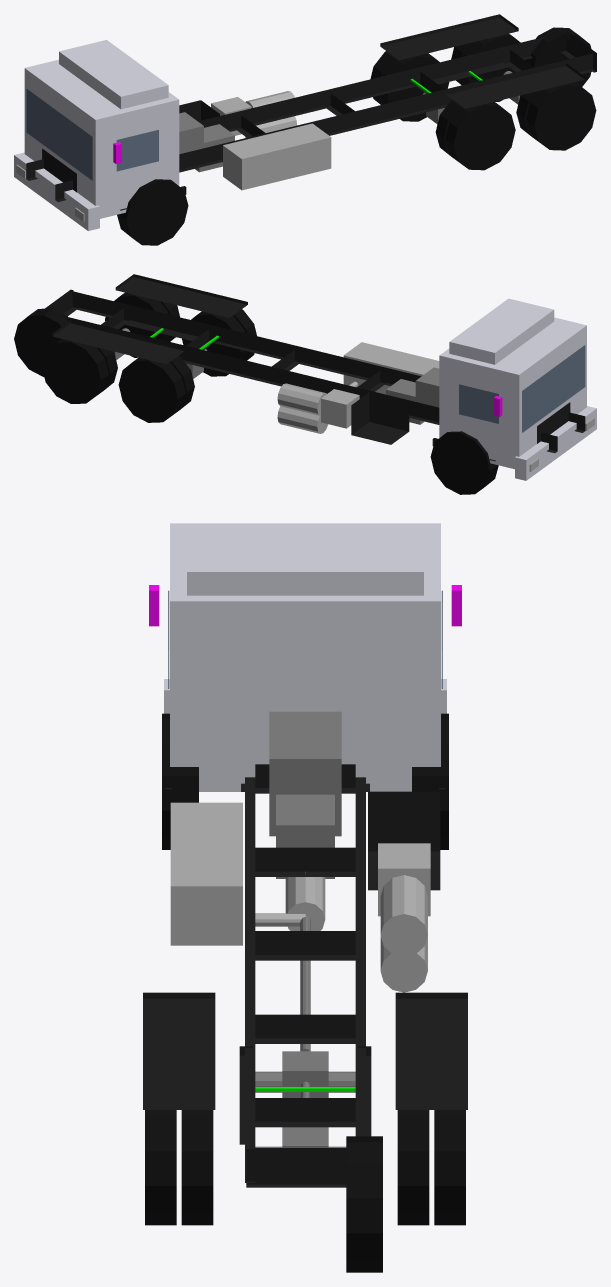
File: volvo_vm270_chassis.obj
3 views of the same model, one above another, from view 1: azimuth 30°, elevation 25°; view 2: azimuth 150°, elevation 25°; view 3: azimuth 270°, elevation 25° (orthographic). The views are drawn at different scales.
Size of the model in its own units: 9.42 by 2.42 by 2.47.
